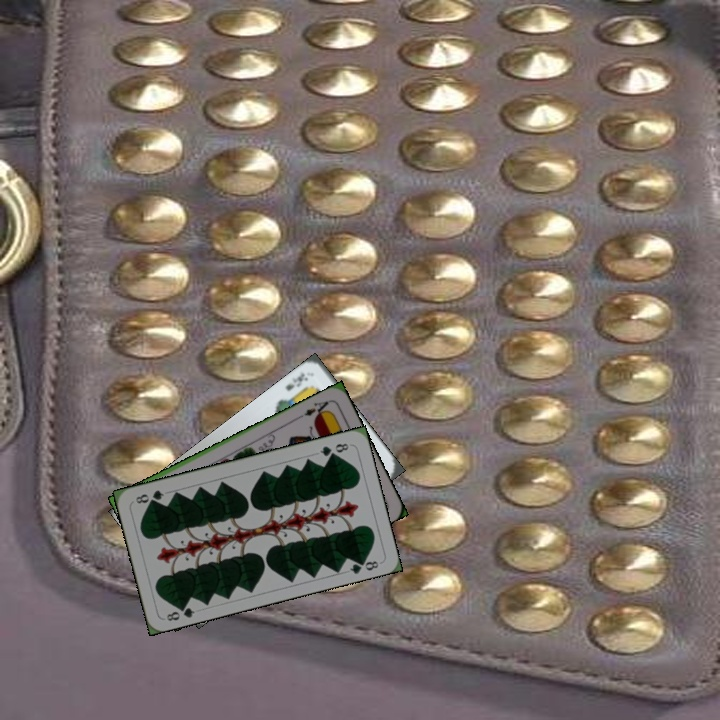EA: (295, 396, 333, 421)
EK: (281, 368, 310, 394)
G8: (162, 600, 197, 624), (316, 439, 351, 459)
